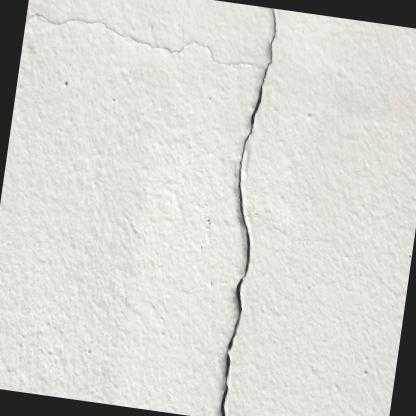crack: (219, 6, 275, 416)
